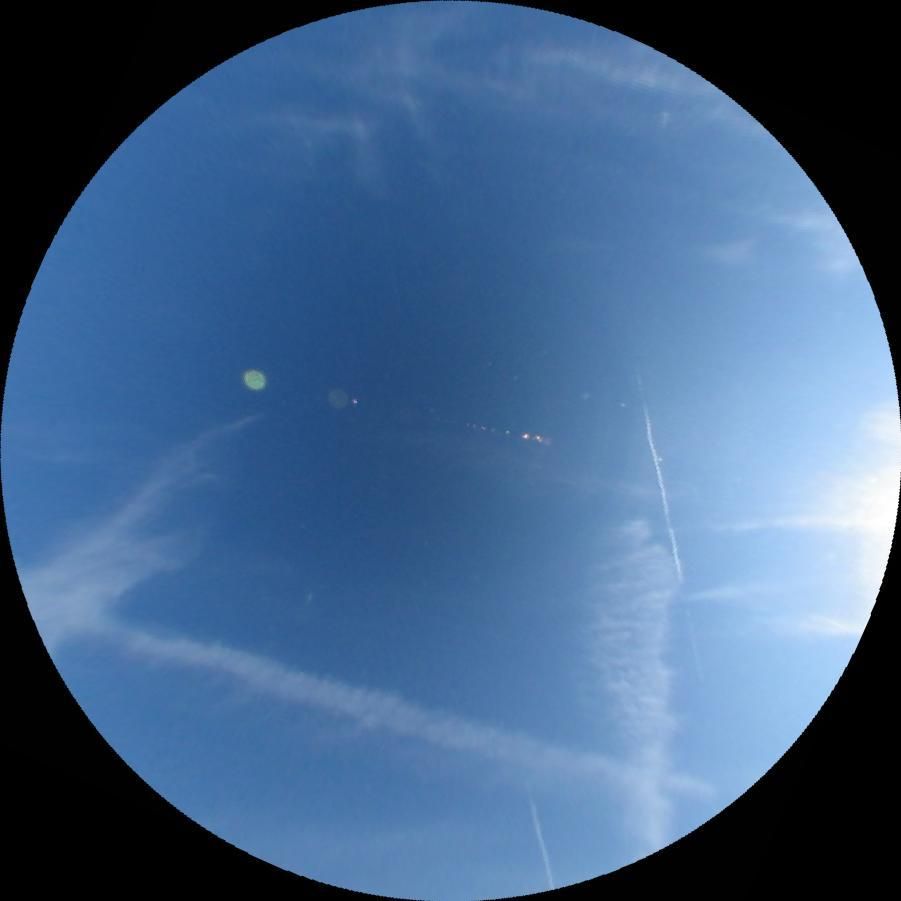contrail old: (526, 798, 556, 890)
contrail veryold: (67, 603, 718, 847), (567, 523, 676, 856), (811, 392, 901, 626)
contrail young: (633, 370, 705, 682)
